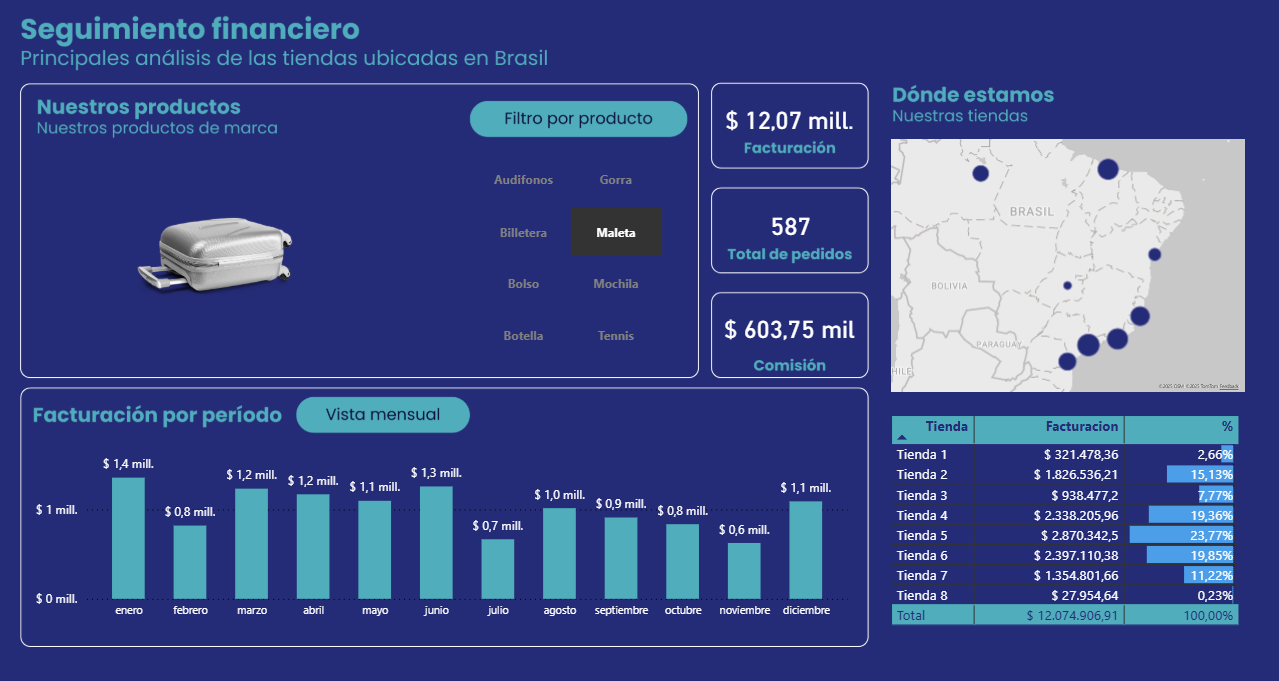

Layout of this report page (visuals, bound fields, positions):
{"tool":"powerbi","page":{"name":"Página 1","canvas":[1280,720],"ordinal":0},"visuals":[{"type":"card","fields":{"Values":["RegistroVentas.Facturacion_t"]},"box":[723.4,86.7,160.1,83.8],"z":0},{"type":"card","fields":{"Values":["CountNonNull(RegistroVentas.Qtde)"]},"box":[762,201.6,81.9,65.9],"z":1000},{"type":"clusteredColumnChart","fields":{"Y":["RegistroVentas.Facturacion_t"],"Category":["RegistroVentas.Fecha_ Pedido.Variación.Jerarquía de fechas.Mes"]},"box":[33.9,471.9,832.6,186.5],"z":2000},{"type":"card","fields":{"Values":["RegistroVentas.Comisión"]},"box":[725.2,309.9,158.2,74.4],"z":3000},{"type":"tableEx","fields":{"Values":["Tiendas.nombre_Tienda","RegistroVentas.Facturacion_t","Sum(RegistroVentas.Facturacion)"]},"box":[931.5,436.1,310.8,222.3],"z":4000},{"type":"azureMap","fields":{"Category":["Tiendas.Nombre_Estado"],"Size":["RegistroVentas.Facturacion_t"],"Y":["Avg(Tiendas.Latitud)"],"X":["Avg(Tiendas.Longitud)"]},"box":[910.8,140.3,350.4,260.9],"z":5000},{"type":"ImageGrid_FC5183B9_926C_45E0_B5F7_0CE9EAF1DA9B","fields":{"ImageURL":["Productos.img_url"]},"box":[9.1,122.4,499.6,289.3],"z":6000},{"type":"slicer","fields":{"Values":["Productos.descripción_producto"]},"box":[453,151.6,256.2,216.6],"z":7000}]}

Visuals, with their boxes in screenshot pixels (x1, y1, x2, y2):
card - RegistroVentas.Facturacion_t: pyautogui.locateOnScreen(708, 47, 862, 128)
card - CountNonNull(RegistroVentas.Qtde): pyautogui.locateOnScreen(745, 158, 824, 221)
clusteredColumnChart - RegistroVentas.Facturacion_t x RegistroVentas.Fecha_ Pedido.Variación.Jerarquía de fechas.Mes: pyautogui.locateOnScreen(43, 419, 846, 599)
card - RegistroVentas.Comisión: pyautogui.locateOnScreen(710, 262, 862, 334)
tableEx - Tiendas.nombre_Tienda x RegistroVentas.Facturacion_t: pyautogui.locateOnScreen(909, 384, 1209, 599)
azureMap - Tiendas.Nombre_Estado x RegistroVentas.Facturacion_t: pyautogui.locateOnScreen(889, 99, 1227, 350)
ImageGrid_FC5183B9_926C_45E0_B5F7_0CE9EAF1DA9B - Productos.img_url: pyautogui.locateOnScreen(19, 81, 501, 361)
slicer - Productos.descripción_producto: pyautogui.locateOnScreen(447, 110, 694, 319)
